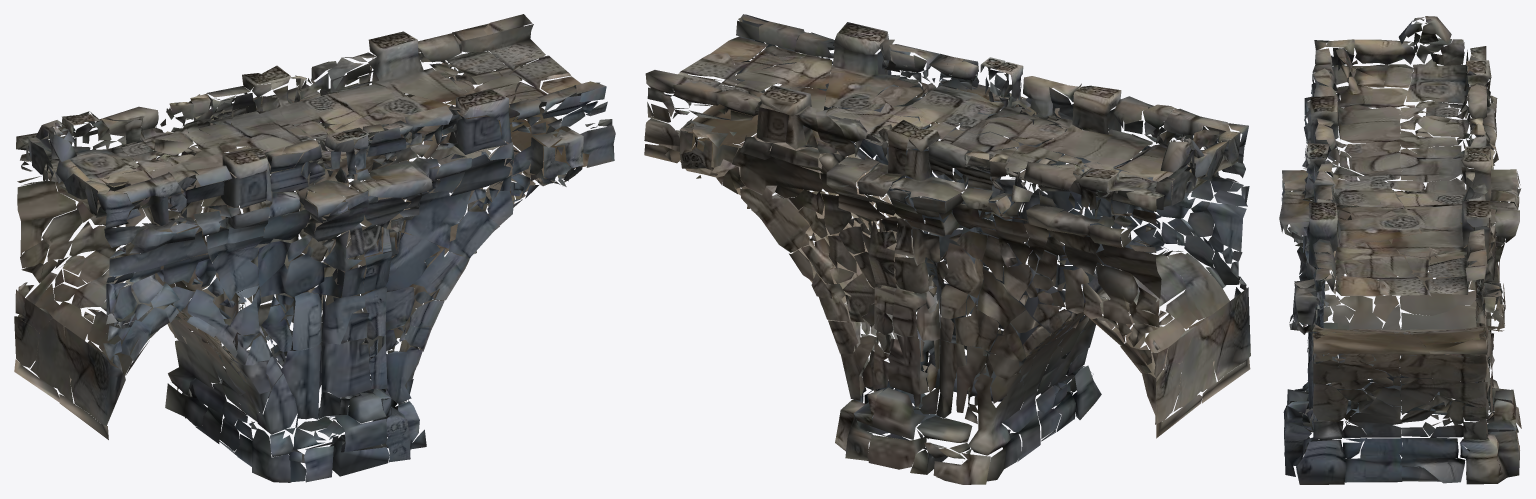
Rendered from arch_bridge_span_LOD1.glb.
3 views of the same model, side by side, from view 1: azimuth 30°, elevation 25°; view 2: azimuth 150°, elevation 25°; view 3: azimuth 270°, elevation 25° (orthographic). The views are drawn at different scales.
Visible parts, largest first — view 1: tripo_node_e0c340e7-bc99-4b1c-ba89-c9116086cf4d; view 2: tripo_node_e0c340e7-bc99-4b1c-ba89-c9116086cf4d; view 3: tripo_node_e0c340e7-bc99-4b1c-ba89-c9116086cf4d.
Part boxes in pixels (x1,y1,x2,y2): tripo_node_e0c340e7-bc99-4b1c-ba89-c9116086cf4d: (14, 14, 615, 482); tripo_node_e0c340e7-bc99-4b1c-ba89-c9116086cf4d: (644, 14, 1250, 484); tripo_node_e0c340e7-bc99-4b1c-ba89-c9116086cf4d: (1279, 16, 1521, 484).
Bounding box in the file's own units: 1 × 0.6601 × 0.4389.
Materials: 1 (1 with a texture image).
